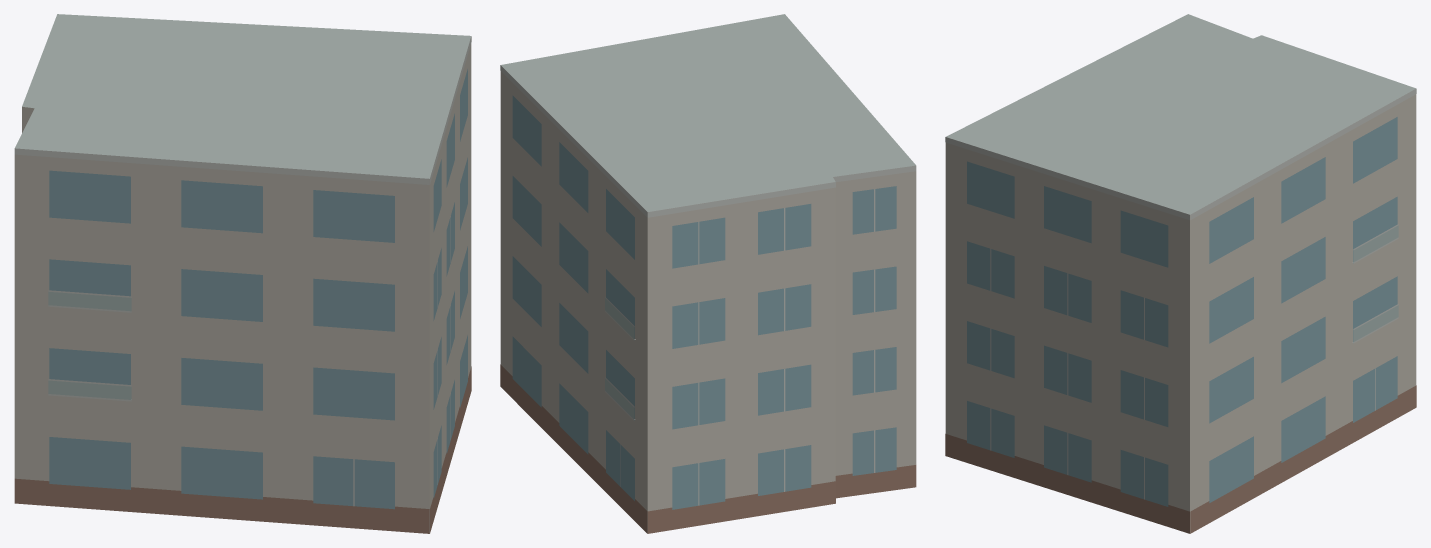
Rendered from survey-upis-32622099.glb.
3 views of the same model, side by side, from view 1: azimuth 30°, elevation 25°; view 2: azimuth 150°, elevation 25°; view 3: azimuth 270°, elevation 25° (orthographic). The views are drawn at different scales.
Visible parts, largest first — view 1: survey-upis-32622099.tmp; view 2: survey-upis-32622099.tmp; view 3: survey-upis-32622099.tmp.
Part boxes in pixels (x1,y1,x2,y2): survey-upis-32622099.tmp: (14,14,471,533); survey-upis-32622099.tmp: (500,14,916,533); survey-upis-32622099.tmp: (945,14,1416,533).
Bounding box in the file's own units: 18.91 × 14 × 18.74.
